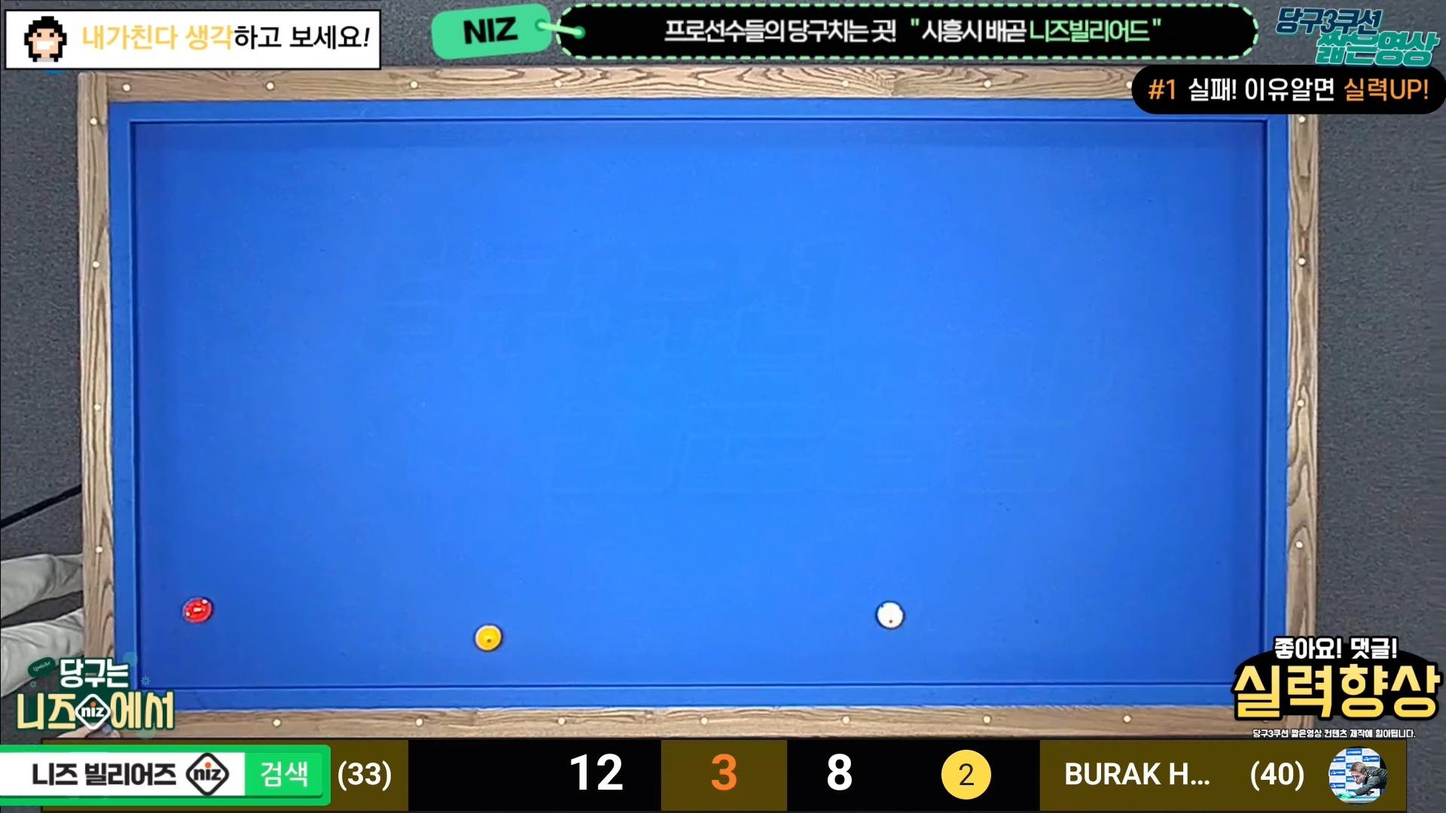-billiard-ball: (874, 600, 905, 630), (473, 623, 502, 652)
Red: (184, 597, 219, 622)
White: (875, 600, 906, 627)
Yellow: (472, 624, 505, 651)
